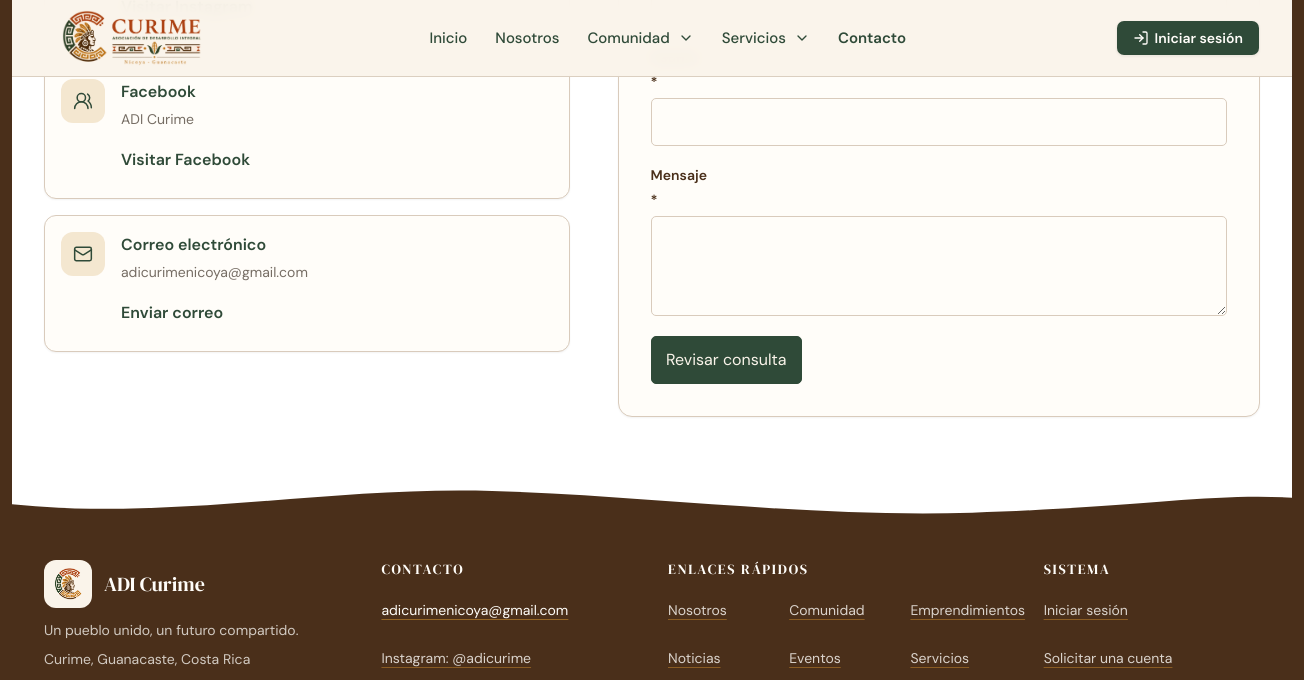
Test: portal público › muestra el formulario de consulta y errores inline básicos
(page scrolled)
Click the button "Revisar consulta": (726, 360) [651,336,802,384]
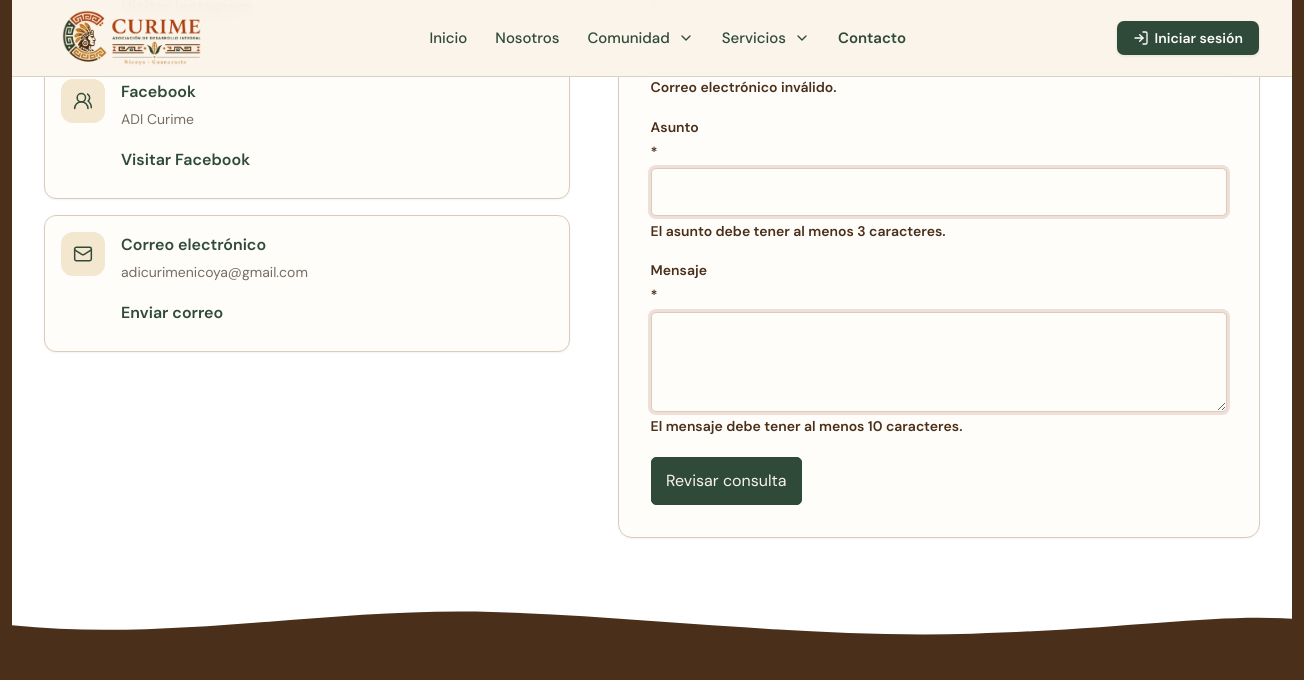
Now the number of messages is 5
